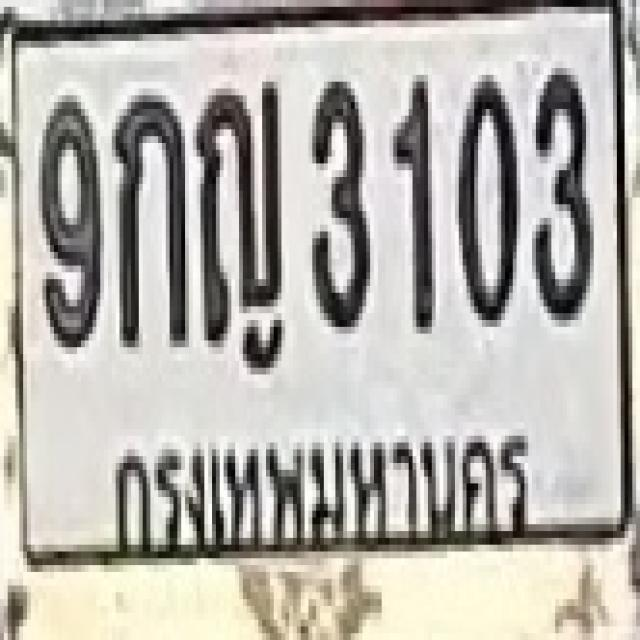-: (193, 78, 281, 337), (112, 89, 185, 347)
0: (455, 68, 513, 320)
1: (389, 68, 428, 327)
3: (308, 75, 366, 327), (532, 61, 590, 313)
9: (39, 92, 100, 344)
BKK: (102, 397, 562, 581)
